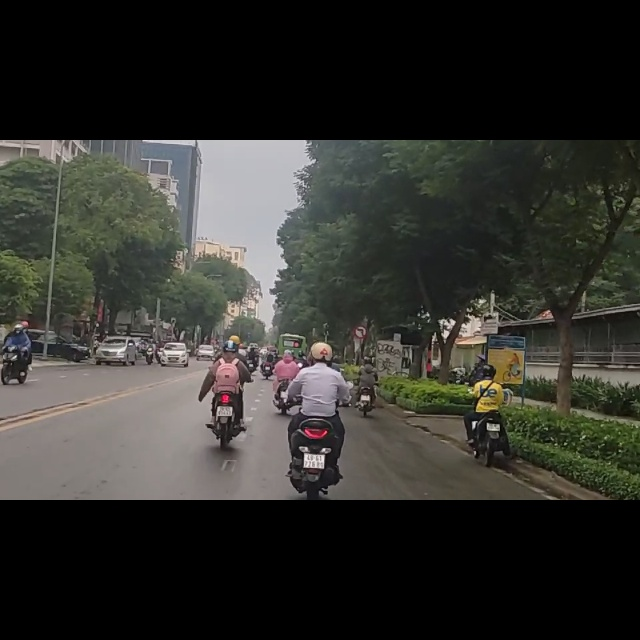Cấm rẽ trái: (354, 325, 367, 339)
